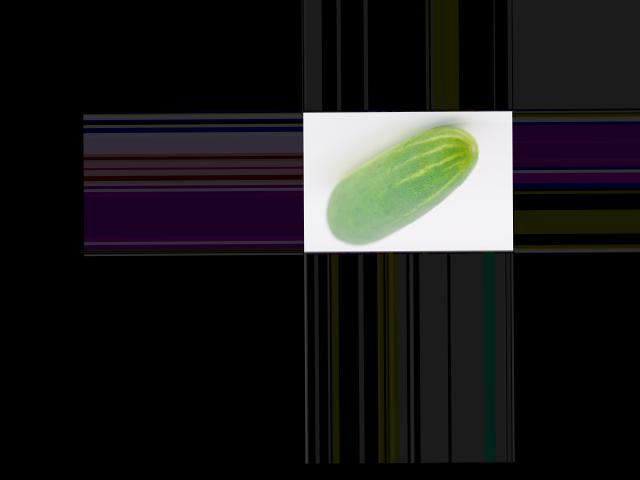cucumber: (325, 125, 478, 245)
